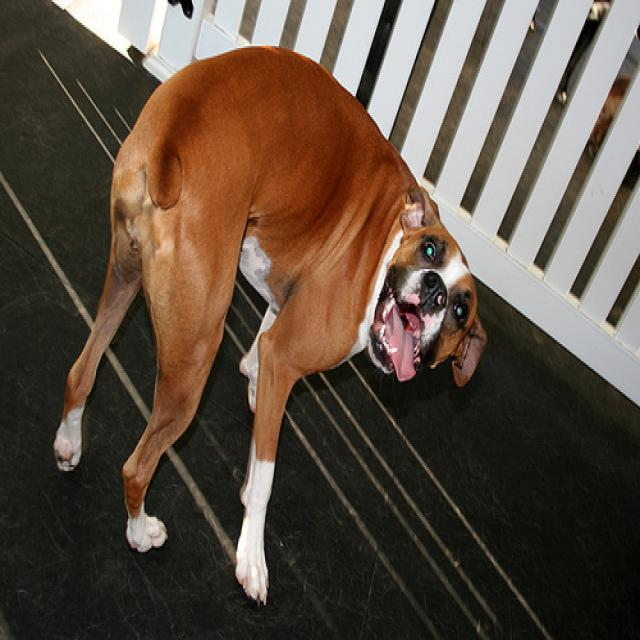dog-boxer: (49, 42, 492, 613)
